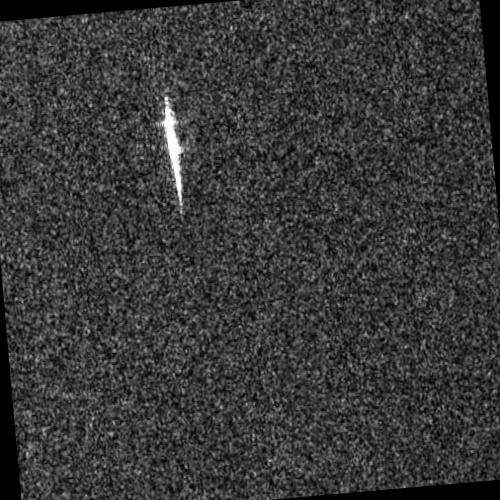ship: (164, 98, 182, 202)
